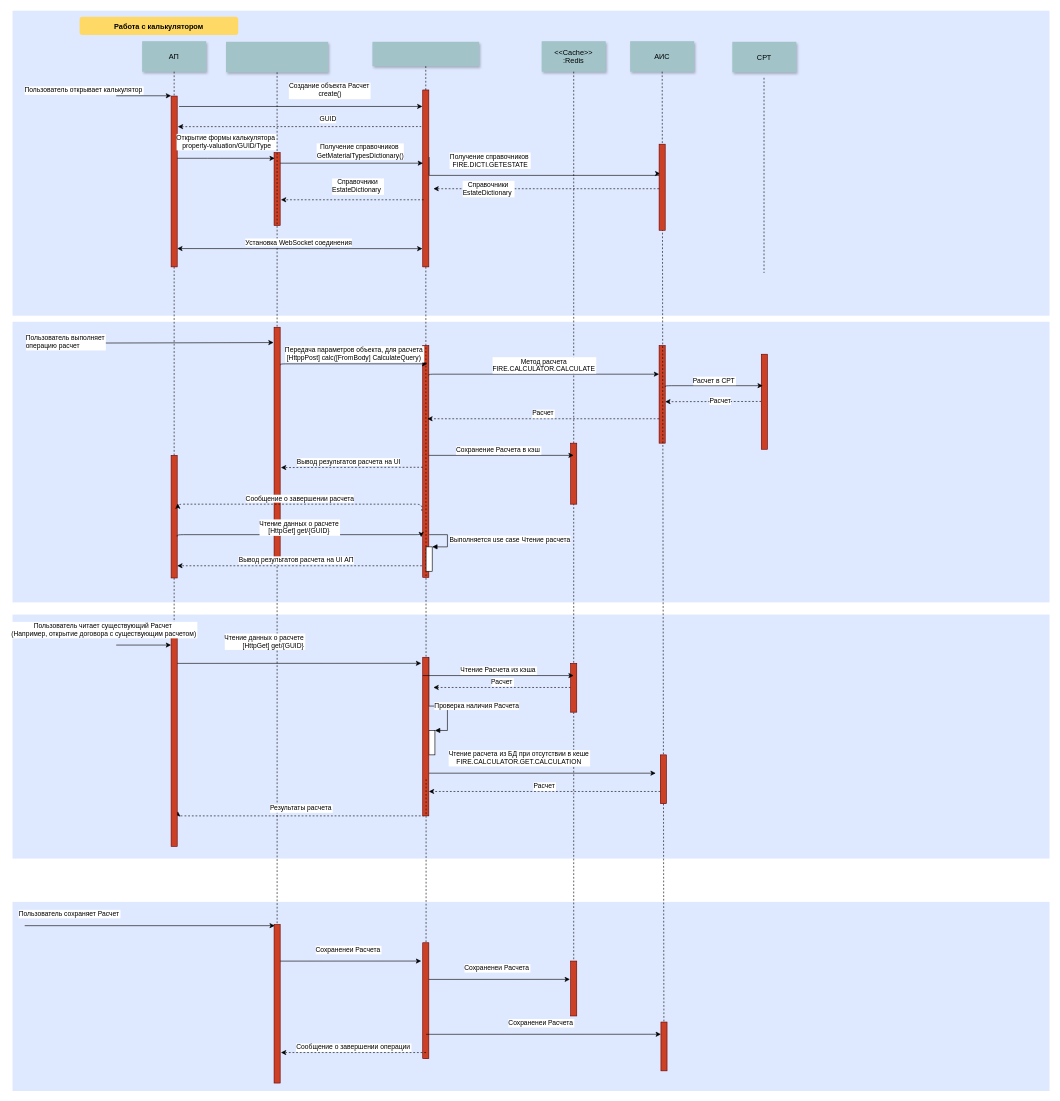
This 1060x1101 diagram has some shape labels left out. The centre of each missing label's shape, as x and y in pixels:
UI Сервиса калькулятора: the point at 277,57
Сервис калькулятора (Middle): the point at 426,54
